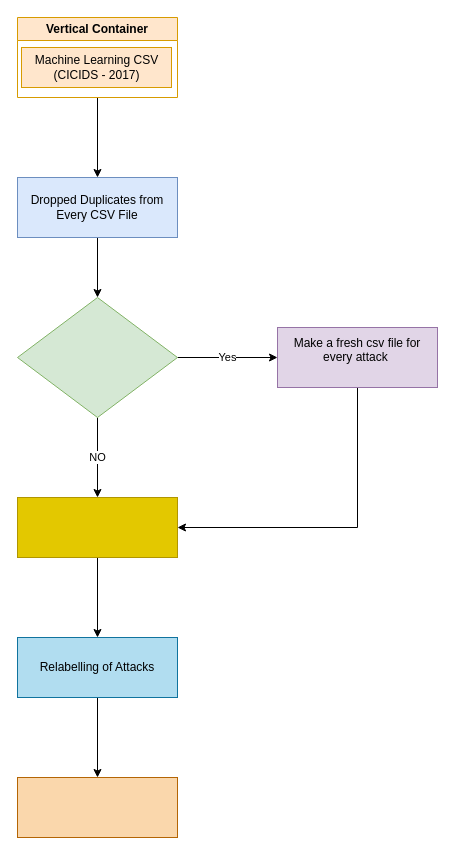
The diagram is 455 pixels wide and 855 high, and some of its shapes have lost their labels. Each missing label, with the centre of its shape:
"Finally 20% of data is prepared" goes at (97,807).
"If the csv file contains multiple attacks" goes at (97,357).
"Pick 20% at random from each attack file." goes at (97,527).
